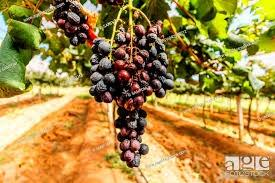Grape Overripe: (89, 21, 173, 166)
